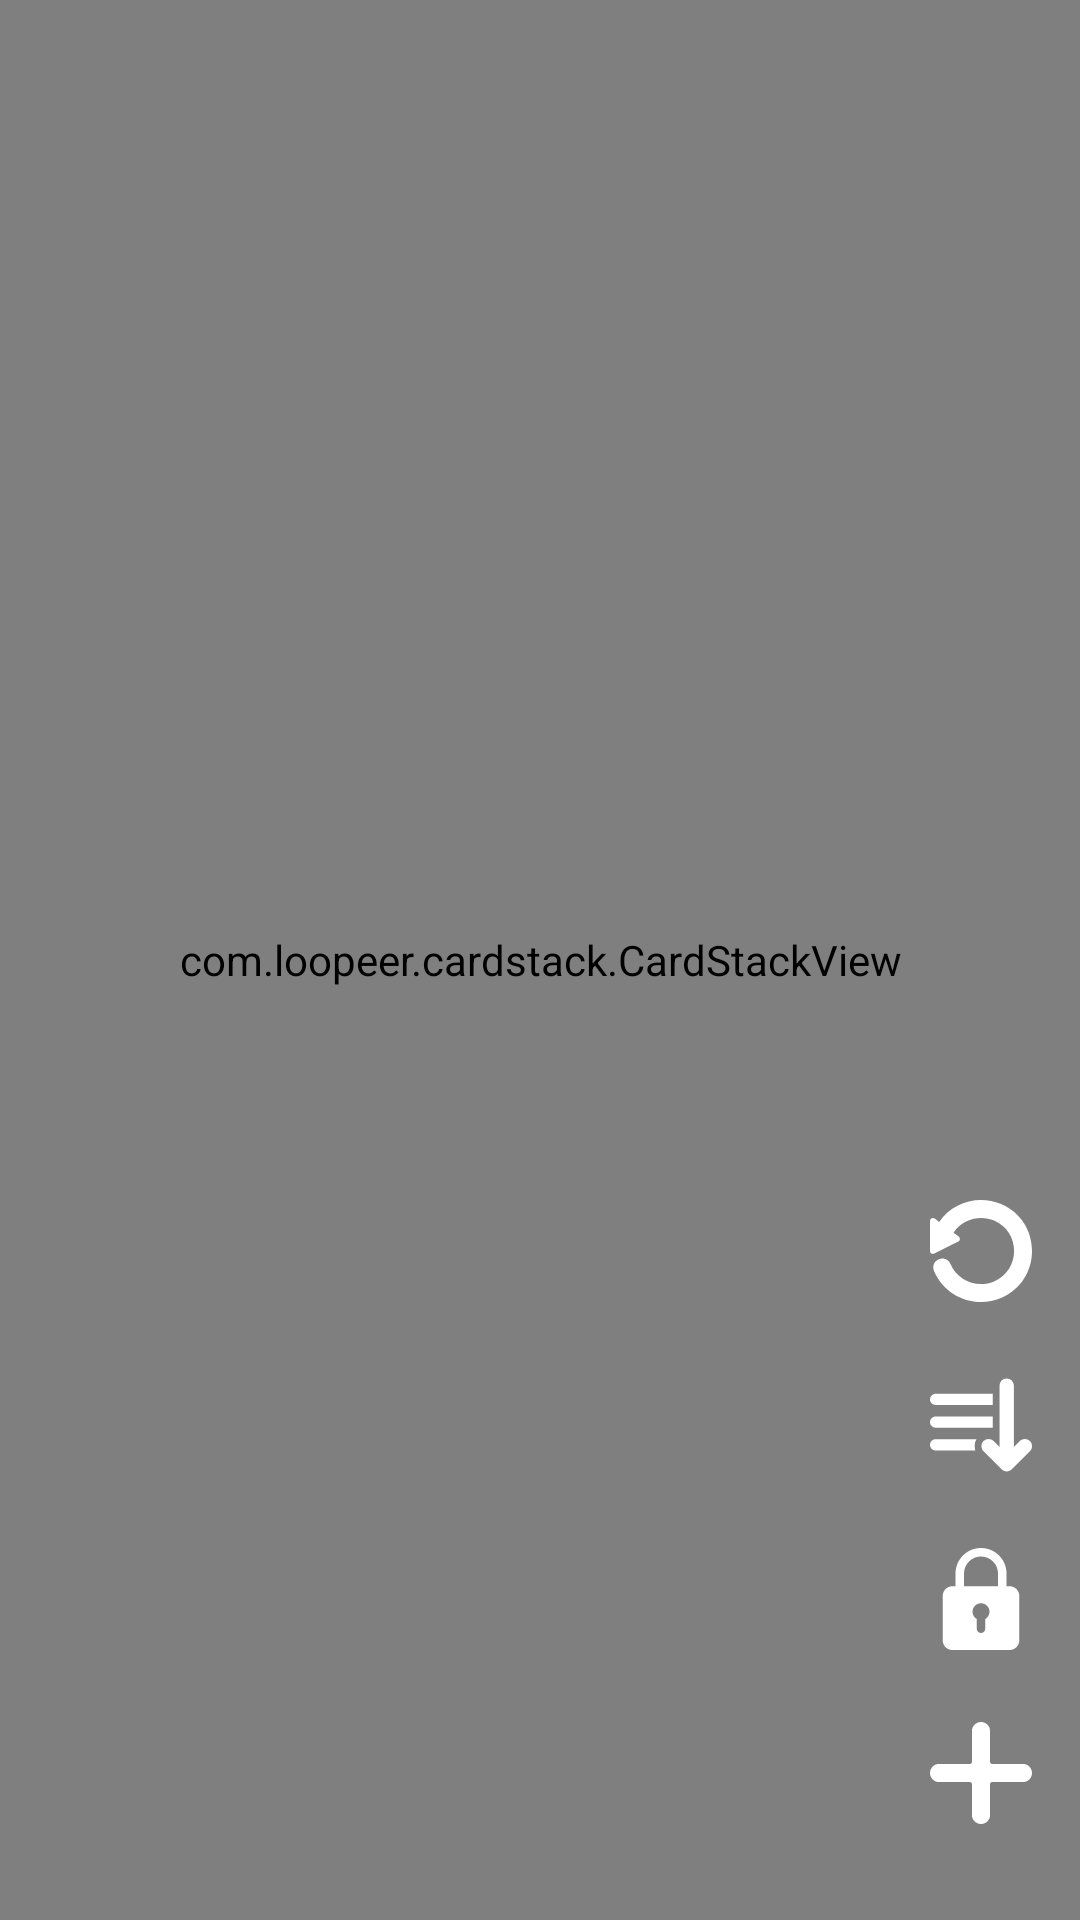

Icon click points for this 1080px×1920px phone screenshot, format [x,y]:
add: [981,1773]
padlock: [981,1599]
refresh: [981,1251]
sort down: [981,1425]
